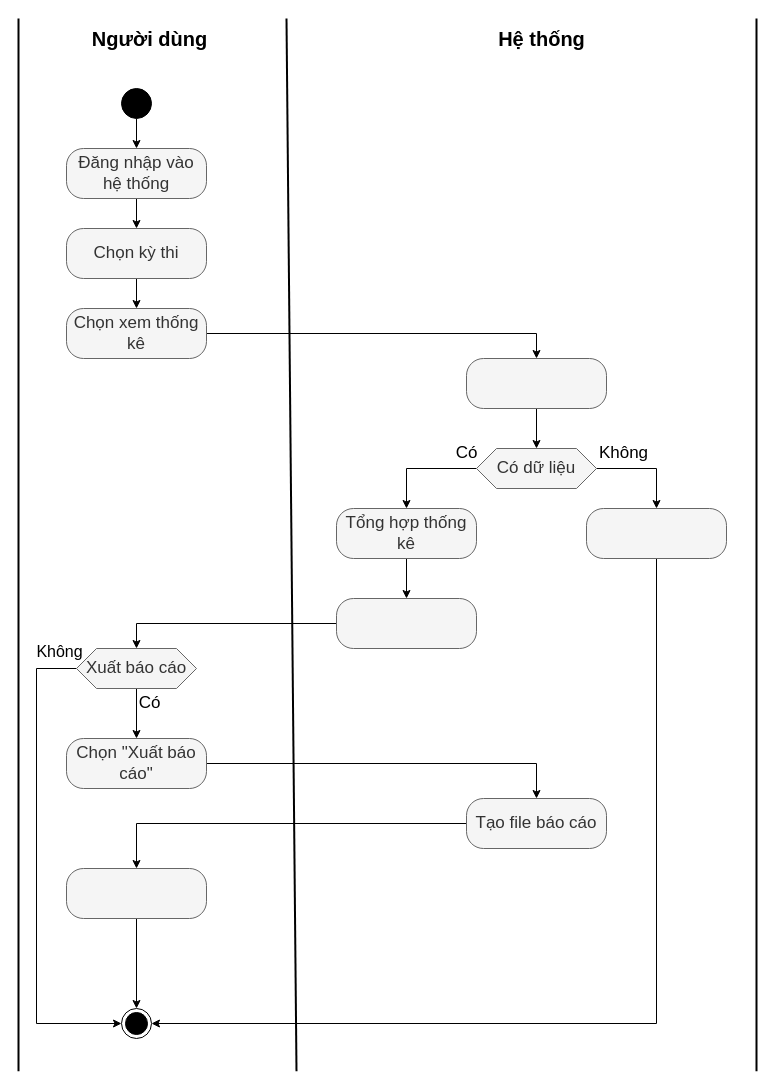
Some shapes in this 775 by 1090 pixel diagram are drawn without their labels. The box of each missing label's shape, as (x1, y1, x2, y2) in pixels:
Hiển thị "Chưa Có Dữ Liệu": (586, 508, 726, 558)
Hiển thị dữ liệu: (336, 598, 476, 648)
Truy vấn dữ liệu: (466, 358, 606, 408)
Tải về: (66, 868, 206, 918)
